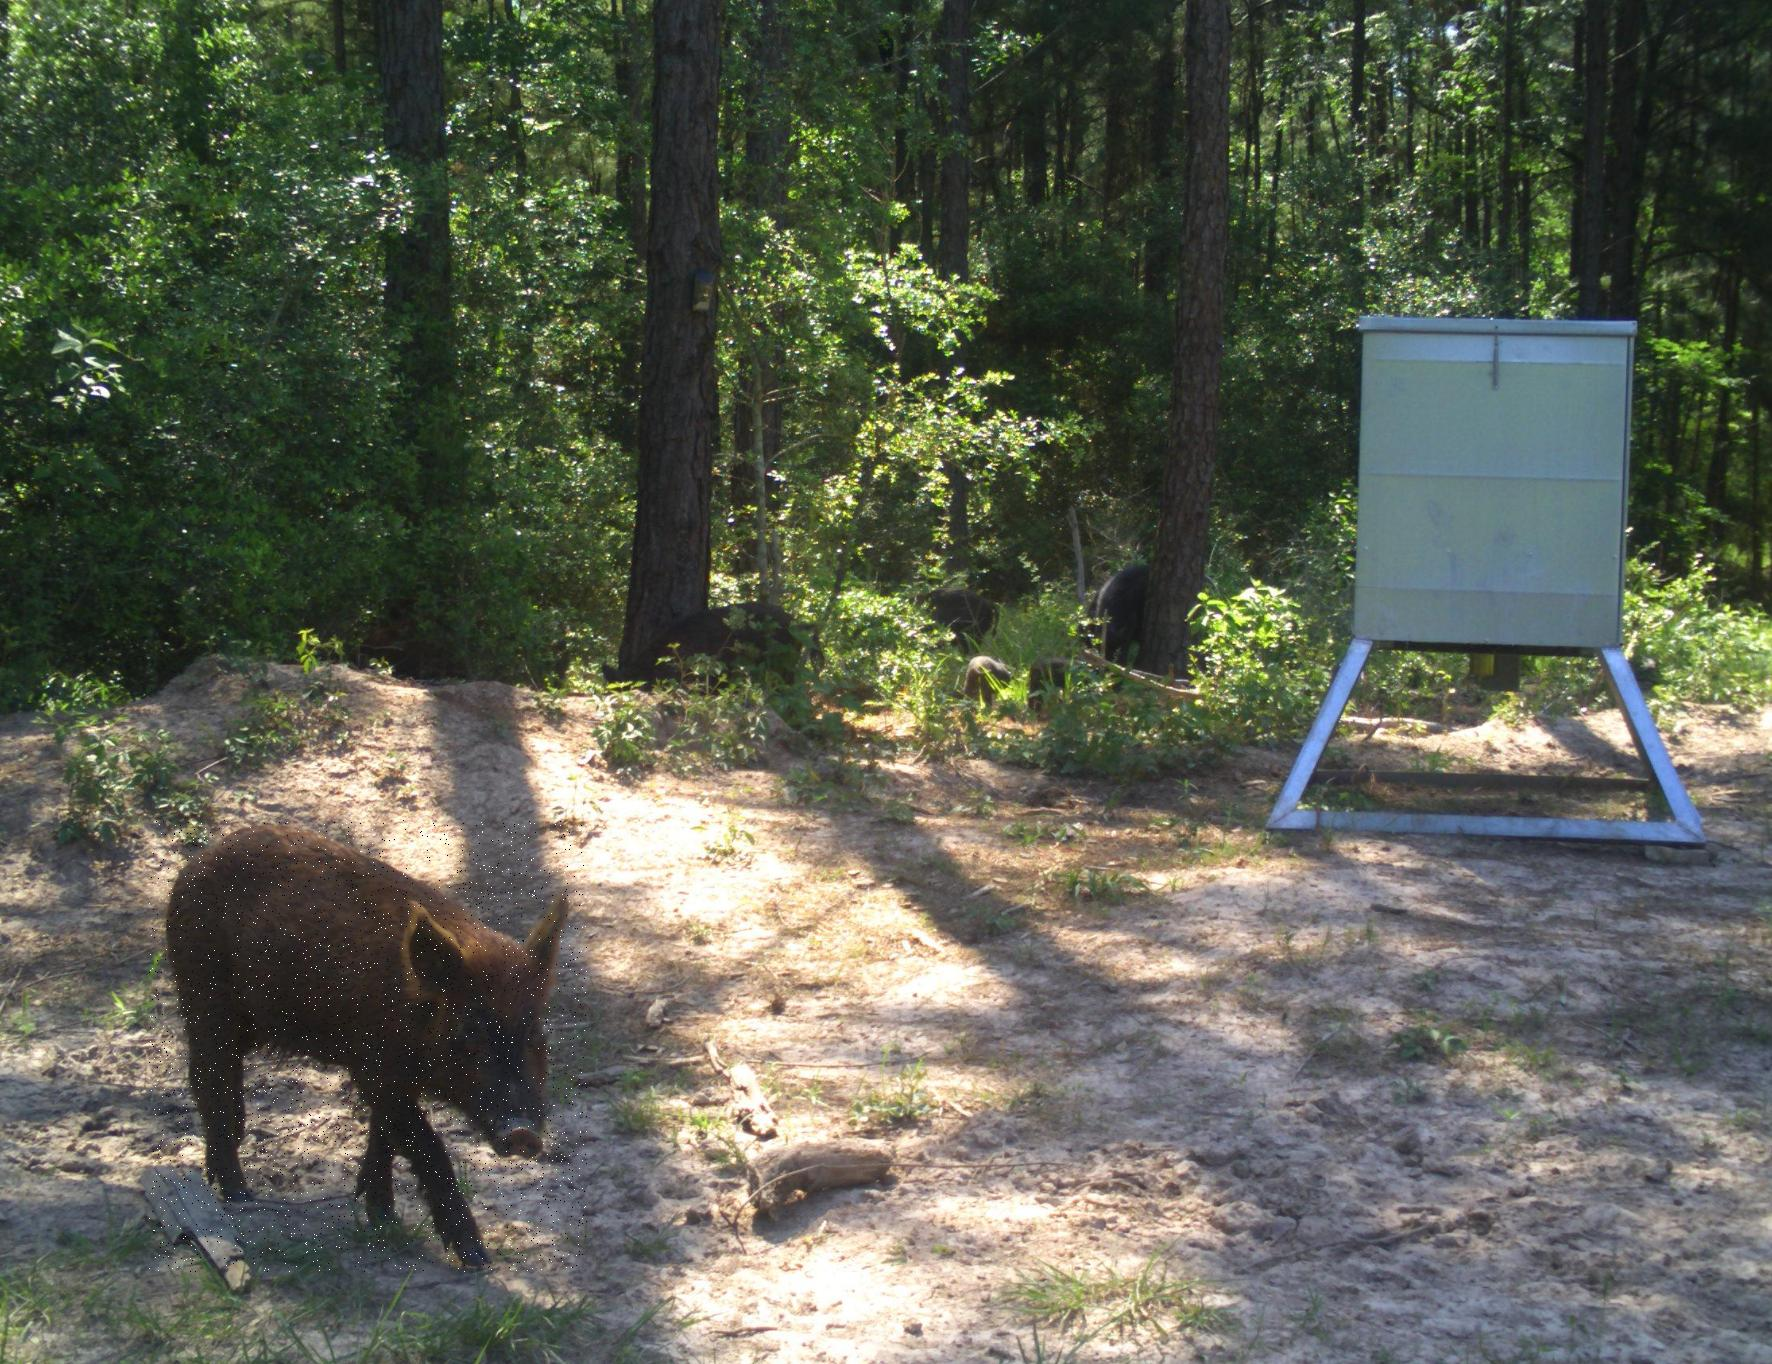Hog: (149, 820, 587, 1272)
